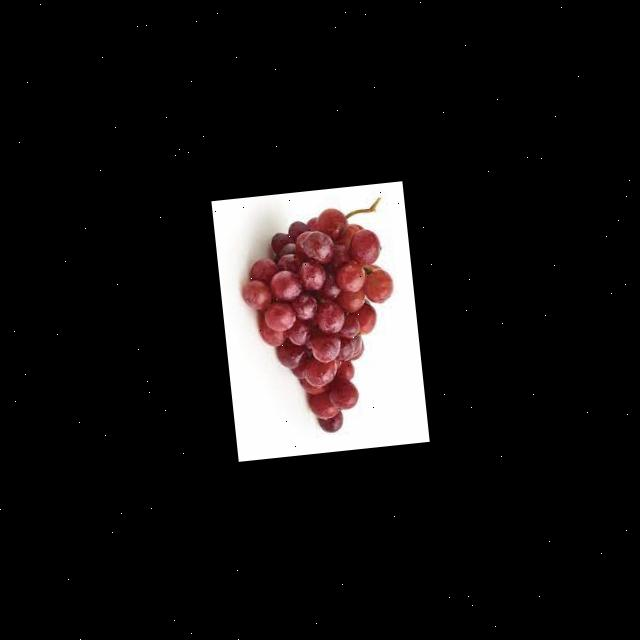grape: (235, 196, 410, 440)
